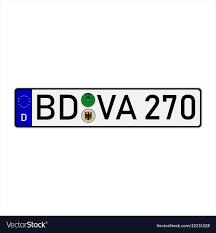0: (180, 93, 196, 120)
2: (144, 93, 161, 121)
7: (162, 94, 178, 120)
A: (116, 93, 137, 120)
B: (36, 94, 56, 121)
D: (59, 93, 79, 122)
V: (96, 92, 117, 121)
